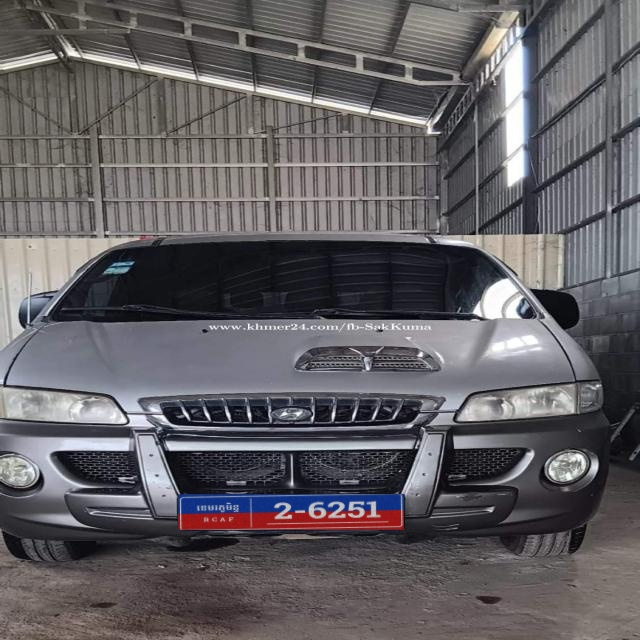Plate Number: (178, 494, 404, 530)
